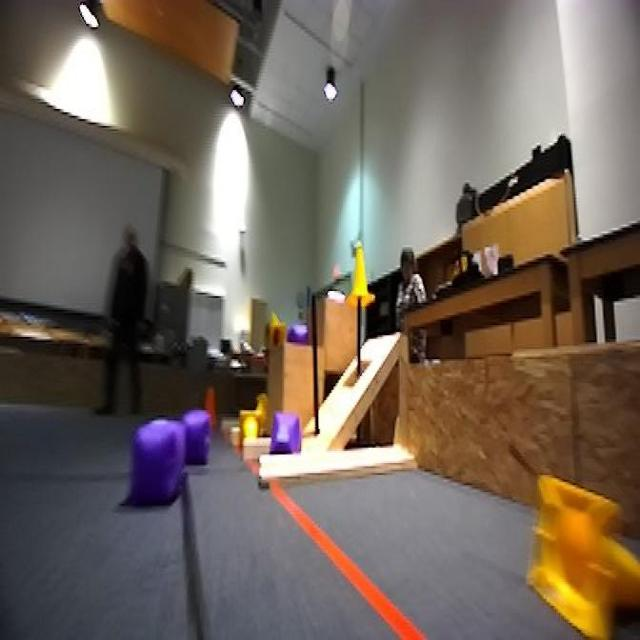frc_cone: (545, 435, 640, 640), (346, 247, 369, 301), (238, 410, 267, 441)
frc_cube: (128, 422, 186, 499), (179, 407, 214, 468), (268, 410, 300, 453), (279, 315, 316, 347)
